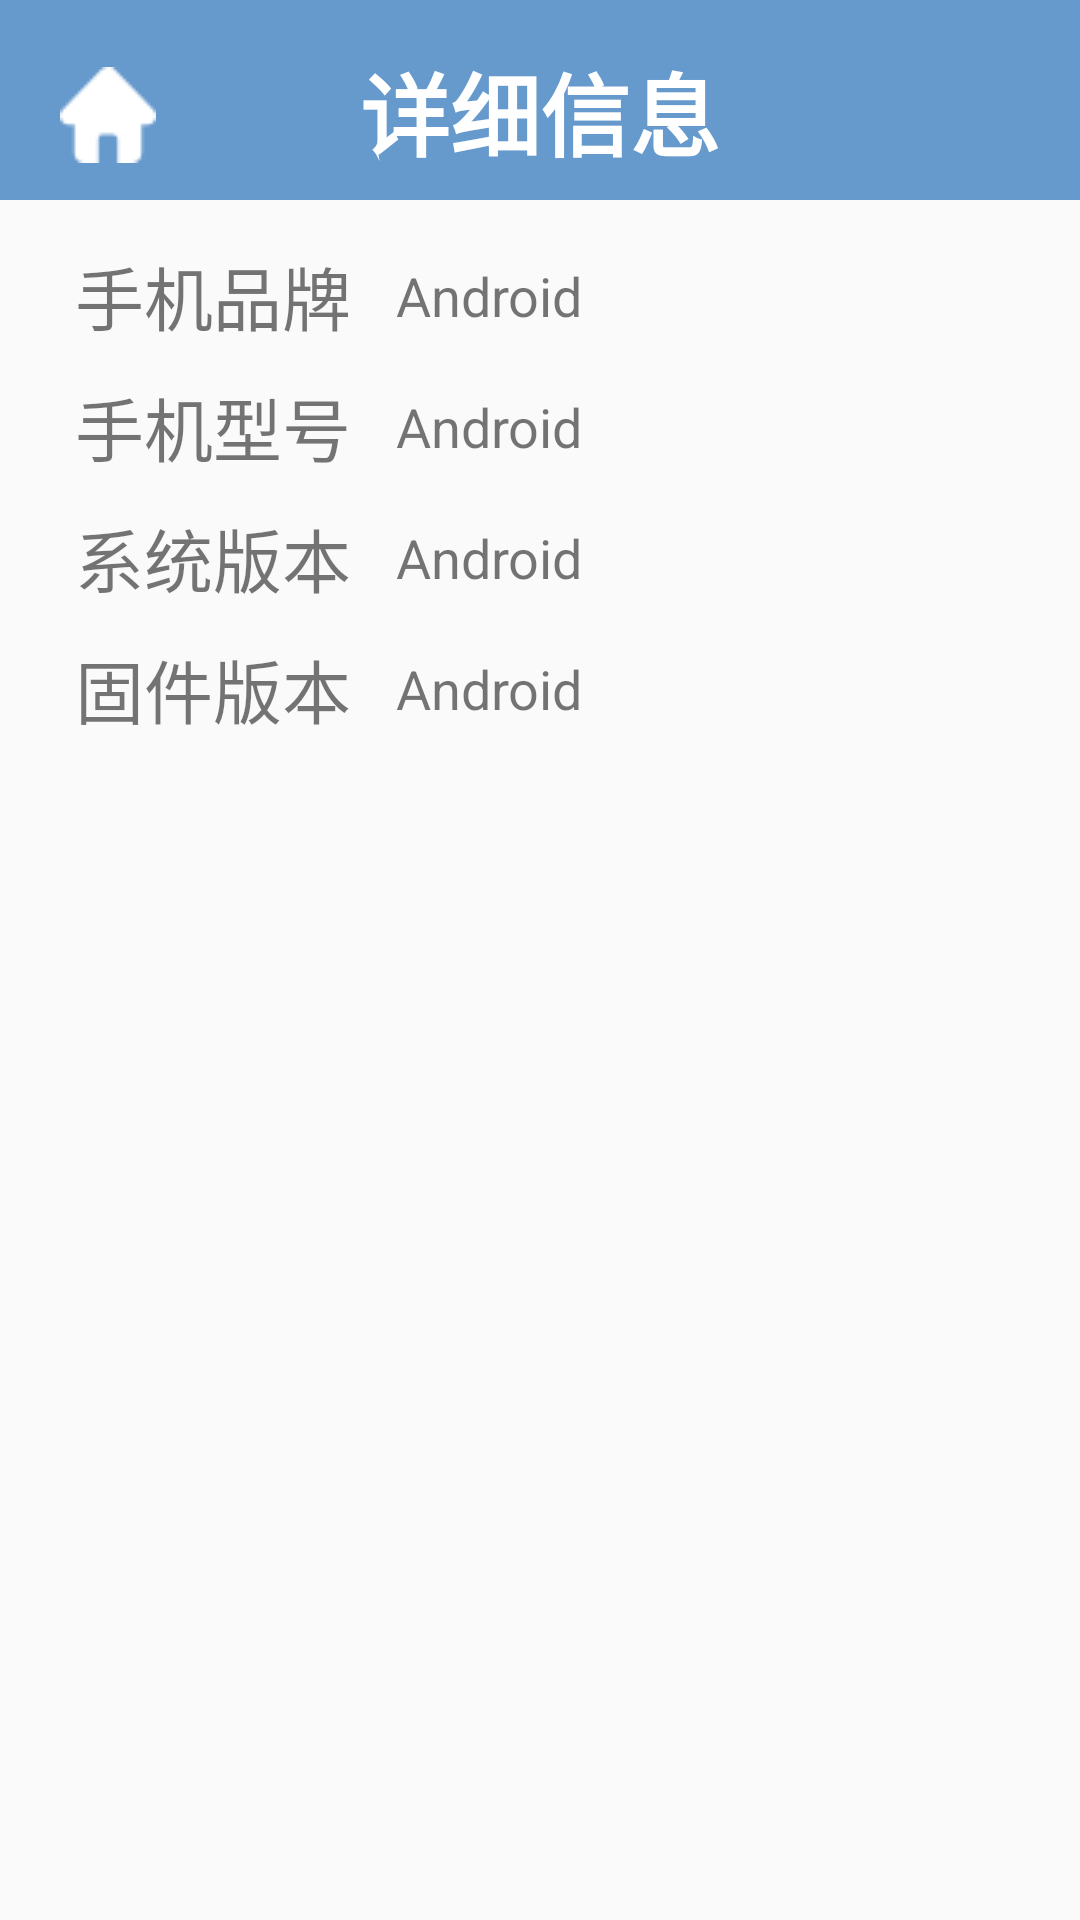

Icons on this 1080x1920 Android screen, each with its box as detection(x1, y1, x2, y2):
home: detection(60, 67, 156, 163)
